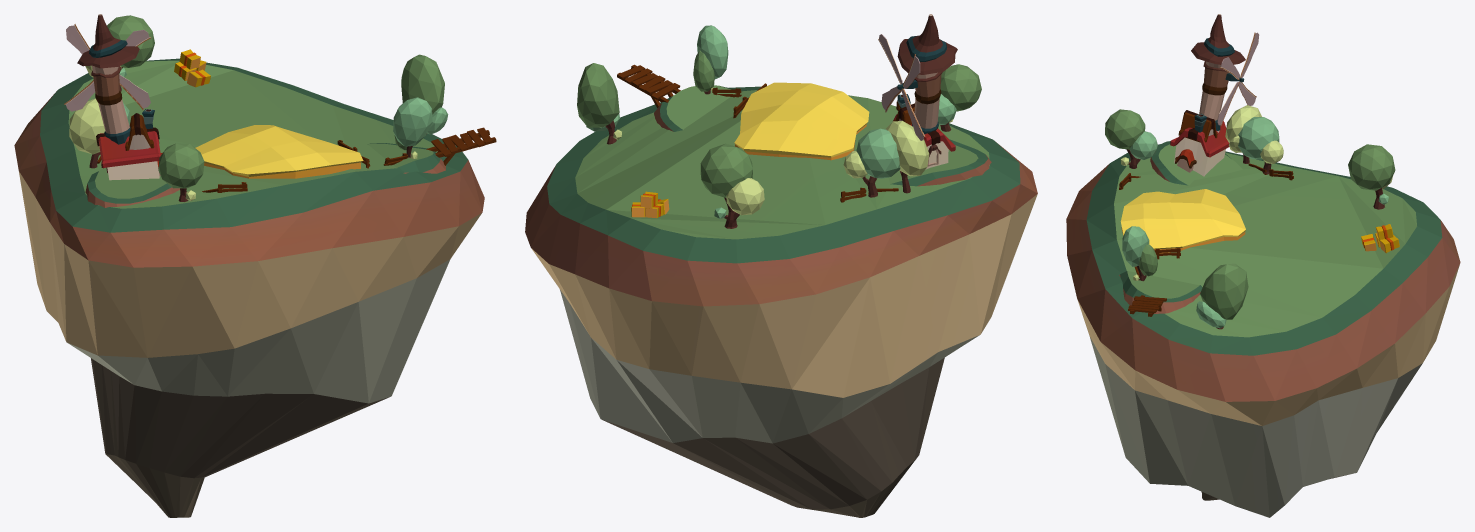
File: stuff.fbx
3 views of the same model, side by side, from view 1: azimuth 30°, elevation 25°; view 2: azimuth 150°, elevation 25°; view 3: azimuth 270°, elevation 25° (orthographic). The views are drawn at different scales.
Visible parts, largest first — view 1: Cylinder, Cube.005, Cube.002; view 2: Cylinder, Cube.005, Cube.002; view 3: Cylinder, Cube.002, Cube.005.
Part boxes in pixels (left/top/right/bottom): Cylinder: left=14, top=14, right=484, bottom=517; Cube.005: left=426, top=127, right=496, bottom=165; Cube.002: left=174, top=49, right=210, bottom=87; Cylinder: left=525, top=14, right=1037, bottom=517; Cube.005: left=617, top=64, right=680, bottom=107; Cube.002: left=631, top=191, right=669, bottom=218; Cylinder: left=1066, top=14, right=1460, bottom=517; Cube.002: left=1361, top=224, right=1399, bottom=253; Cube.005: left=1128, top=295, right=1166, bottom=316.
Bounding box in the file's own units: 4112 × 4690 × 3711.
